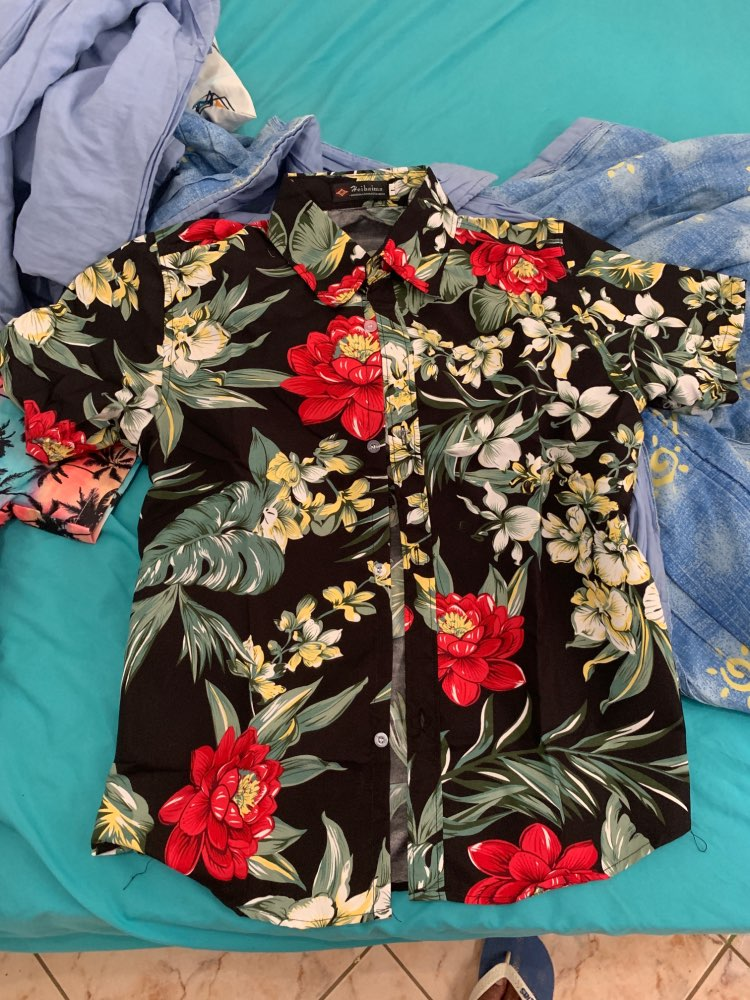shirts: (13, 162, 750, 889)
